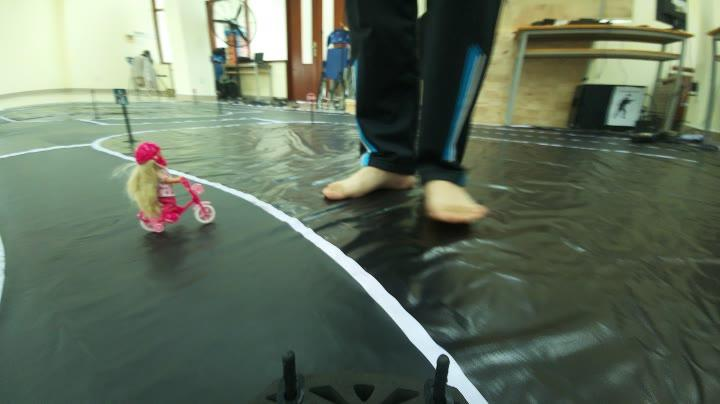pedestrian: (117, 140, 234, 230)
